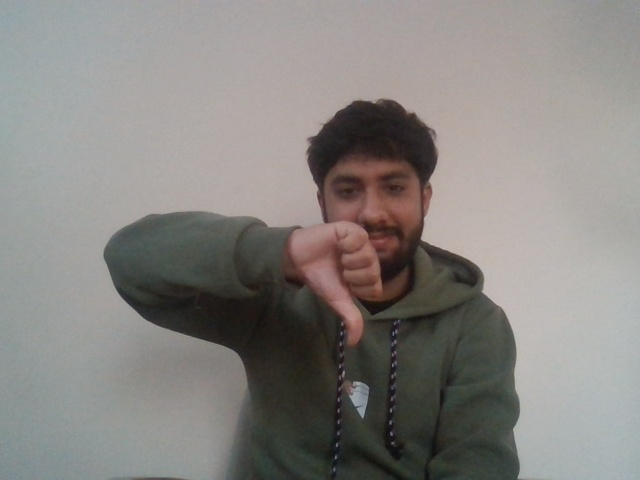No: (296, 211, 387, 347)
